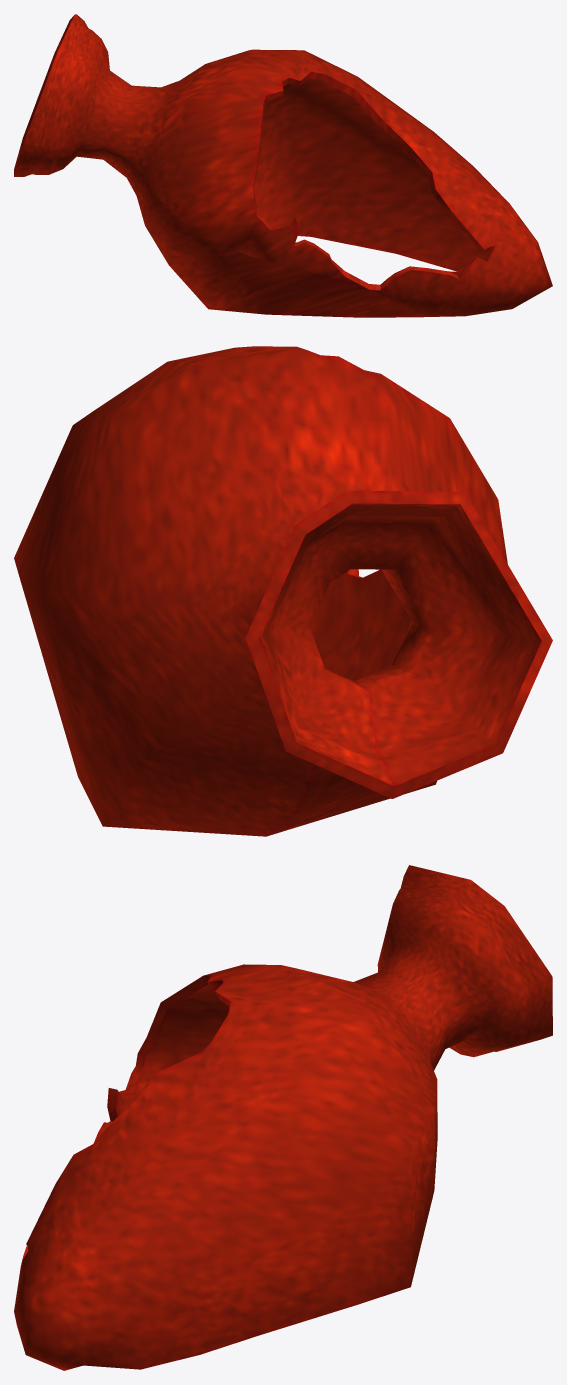
File: Anfora.FBX
3 renders of one model, top to bottom at view 1: azimuth 30°, elevation 25°; view 2: azimuth 150°, elevation 25°; view 3: azimuth 270°, elevation 25°, orthographic. The views are drawn at different scales.
Visible parts, largest first — view 1: HP_anfora; view 2: HP_anfora; view 3: HP_anfora.
Part boxes in pixels (bbox=[...]): HP_anfora: bbox=[14, 14, 552, 317]; HP_anfora: bbox=[14, 346, 552, 836]; HP_anfora: bbox=[14, 865, 552, 1370].
Size of the model in its own units: 309 by 189 by 286.
